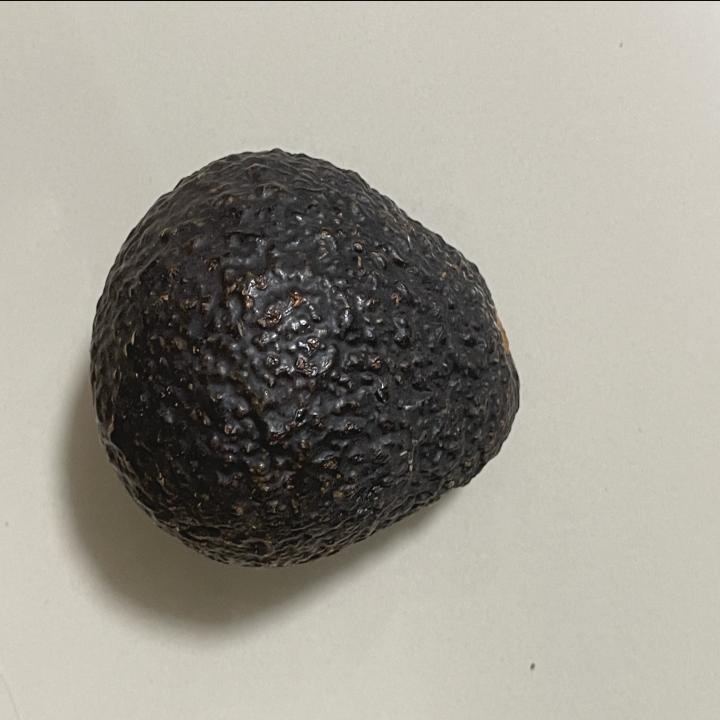Level1: (78, 132, 536, 578)
